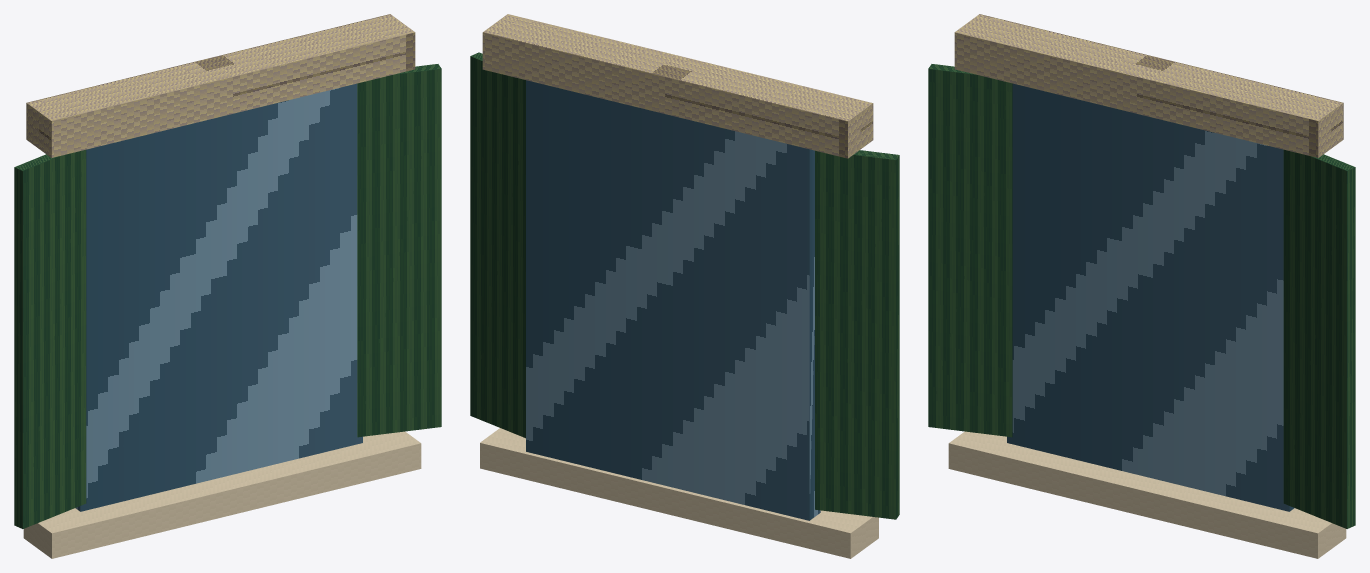
Rendered from window-casco-lod0.glb.
3 views of the same model, side by side, from view 1: azimuth 30°, elevation 25°; view 2: azimuth 150°, elevation 25°; view 3: azimuth 330°, elevation 25° (orthographic).
Parts seen in each view (by area): view 1: window-casco-lod0; view 2: window-casco-lod0; view 3: window-casco-lod0.
Part boxes in pixels (x1,y1,x2,y2): window-casco-lod0: (14,14,441,558); window-casco-lod0: (470,14,899,558); window-casco-lod0: (928,14,1355,558).
Bounding box in the file's own units: 1.56 × 1.53 × 0.18.
Materials: 1 (1 with a texture image).
